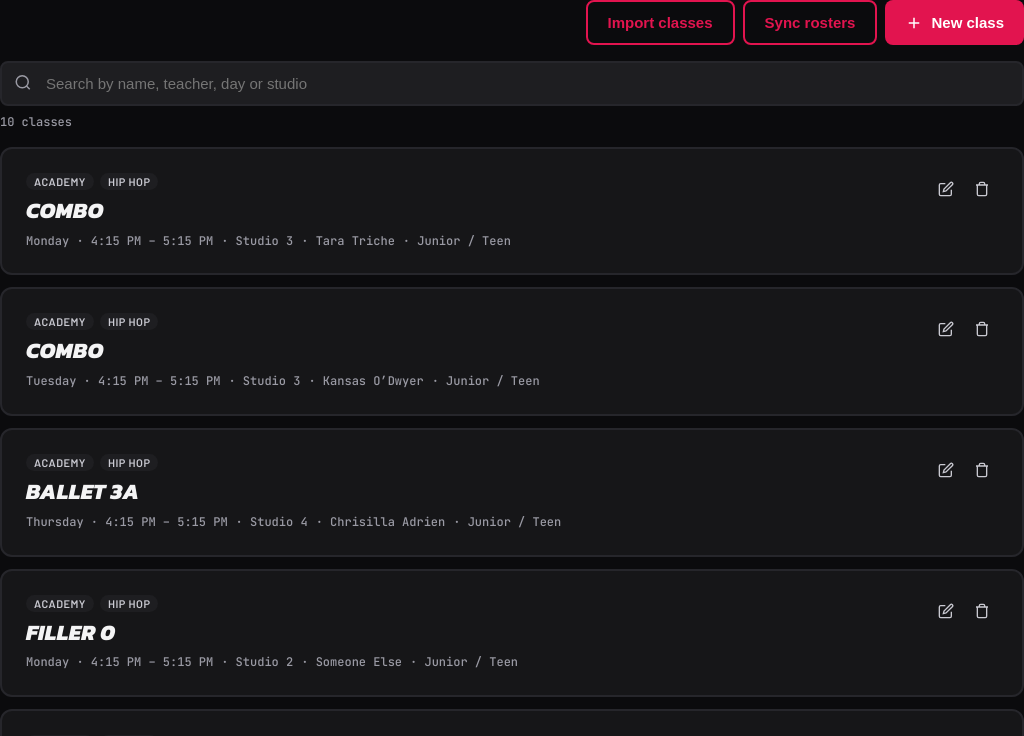
Scenario: a program with a real number of classes › says a search found nothing without offering to create a class
The image size is (1024, 736).
Type "zzzz" into the field named "Search classes" at point(512, 84), box [0,61,1023,106]
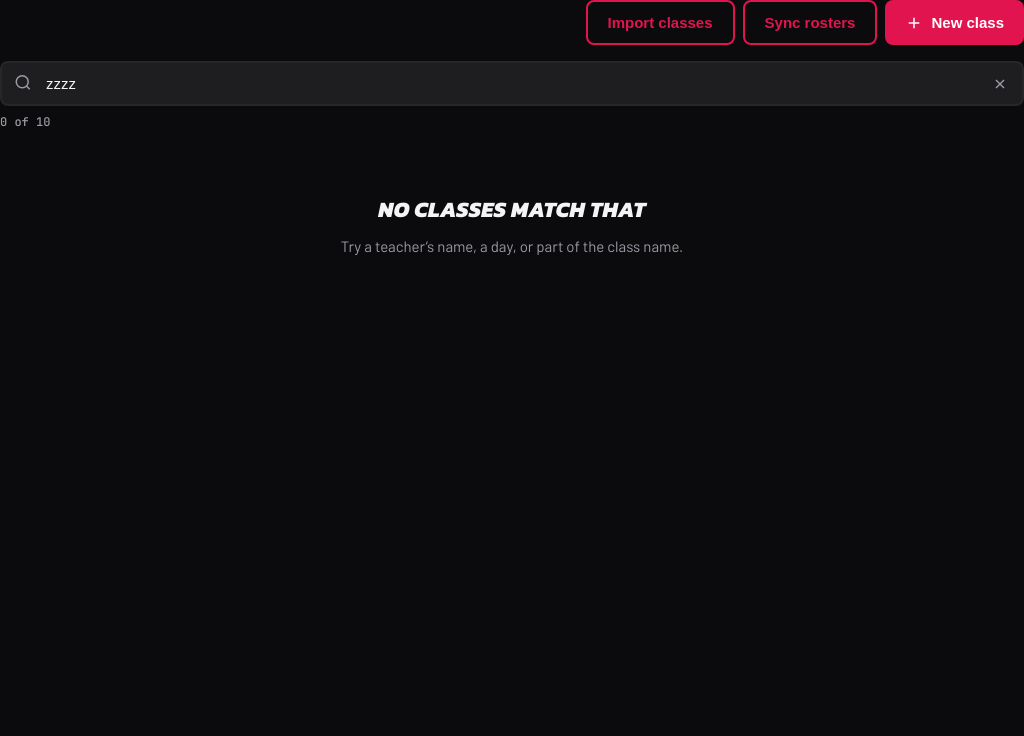
Now the heading "No classes match that" is shown, box [378,195,646,226]
